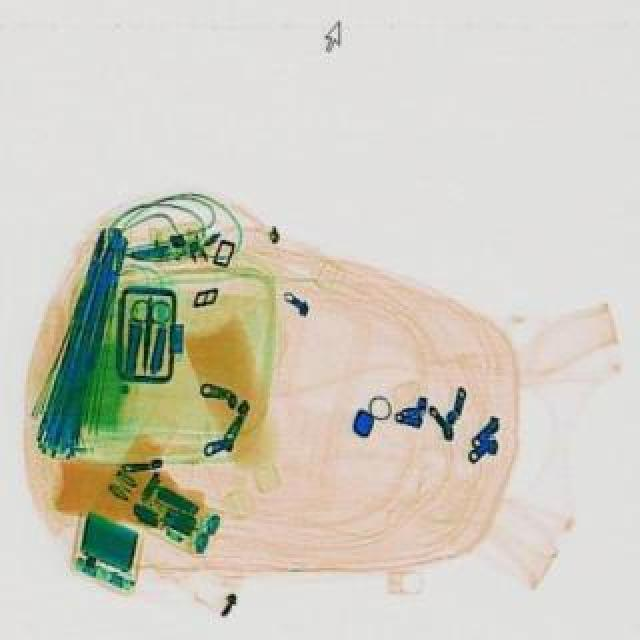pliers: (126, 296, 176, 376)
